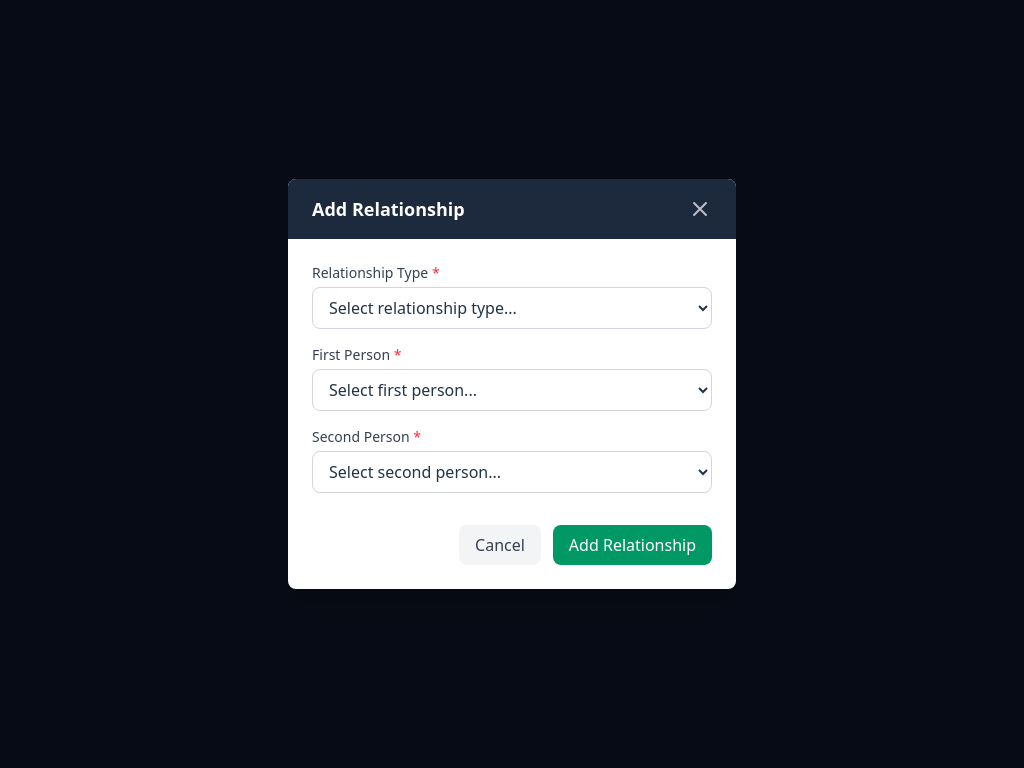
Test case: AddRelationshipModal › validation › shows error when submitting without relationship type
What coordinates should you click on to do the following:
click the button "Add Relationship"
I would click on:
 (632, 545)
Its box is x1=553 y1=525 x2=712 y2=565.
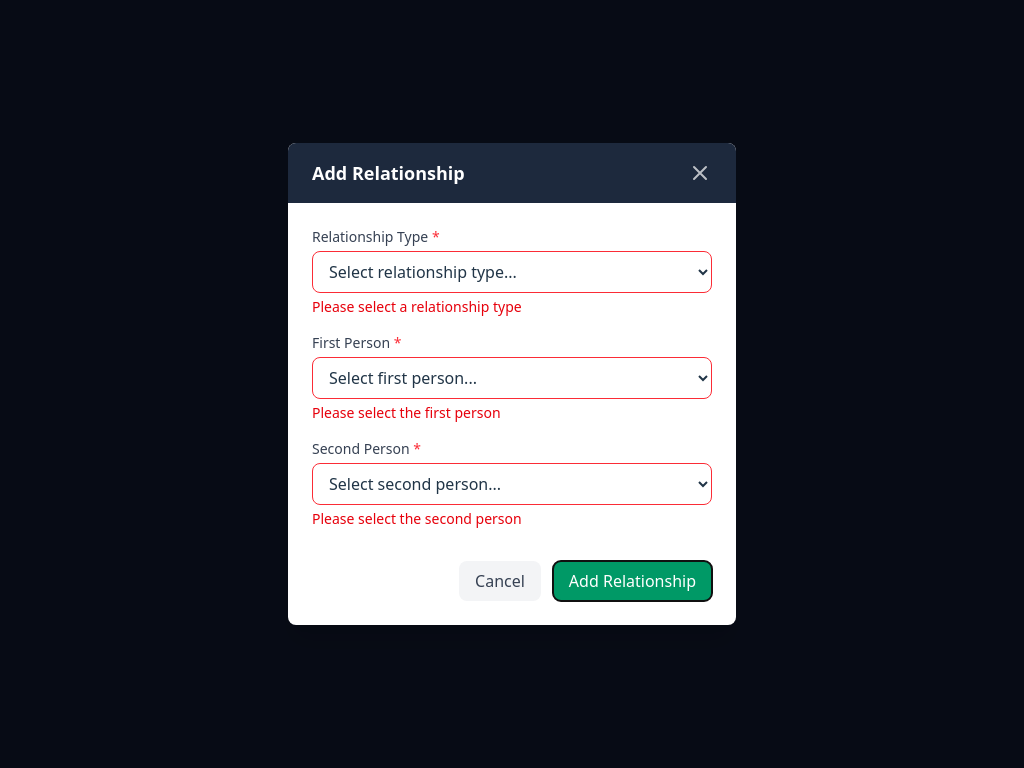
Result: the text "Please select a relationship type" is shown at x1=312 y1=297 x2=522 y2=316
